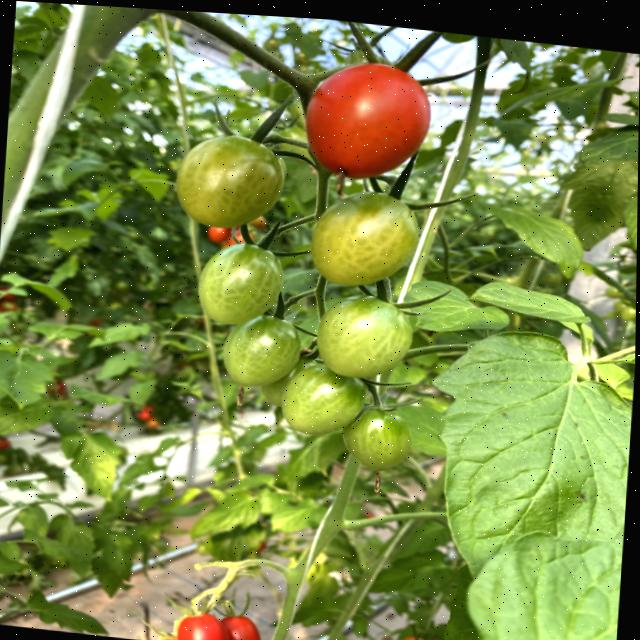ripe0: (174, 127, 288, 236)
ripe2: (302, 56, 433, 188), (310, 185, 424, 294), (313, 288, 415, 384), (197, 237, 285, 332), (279, 360, 369, 438)
